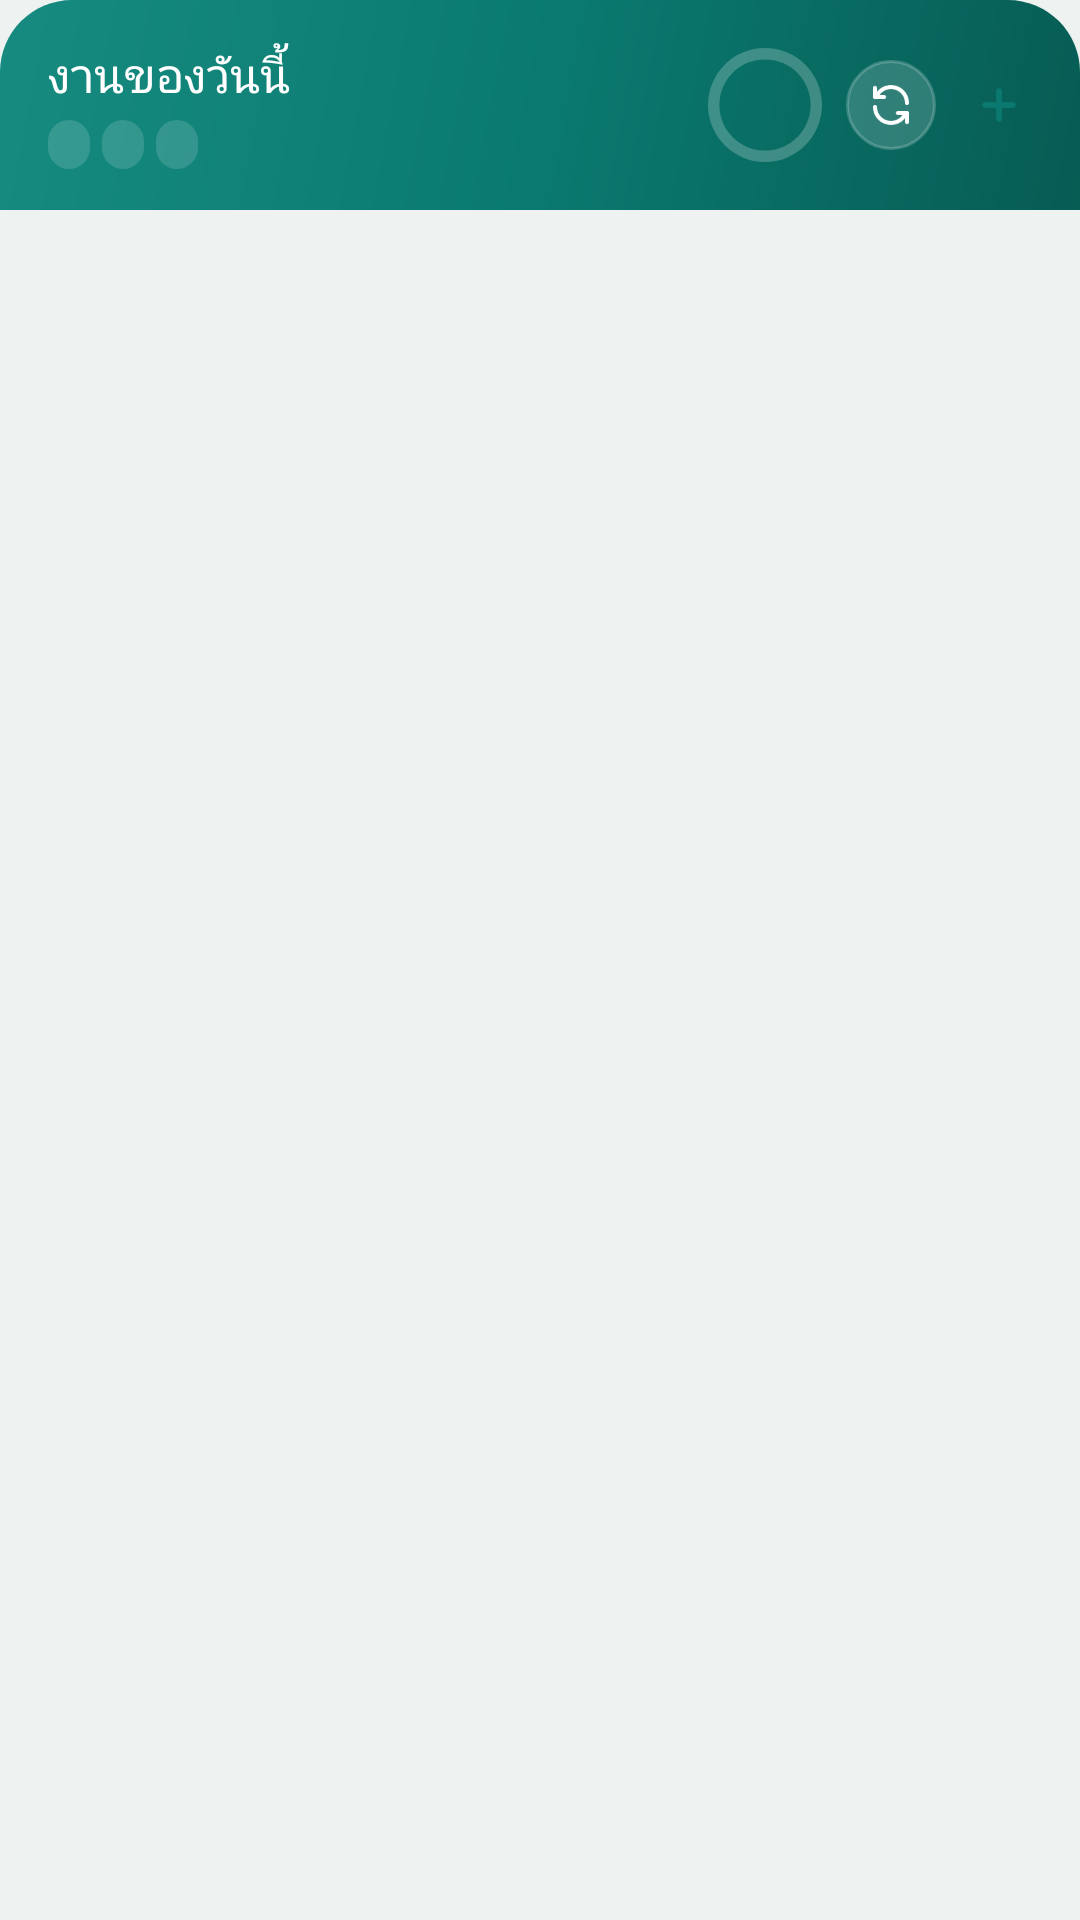

Screen size 1080px×1920px. Icon name, then its center in pixels as (x=x, y=y):
รีเฟรช: (x=891, y=105)
